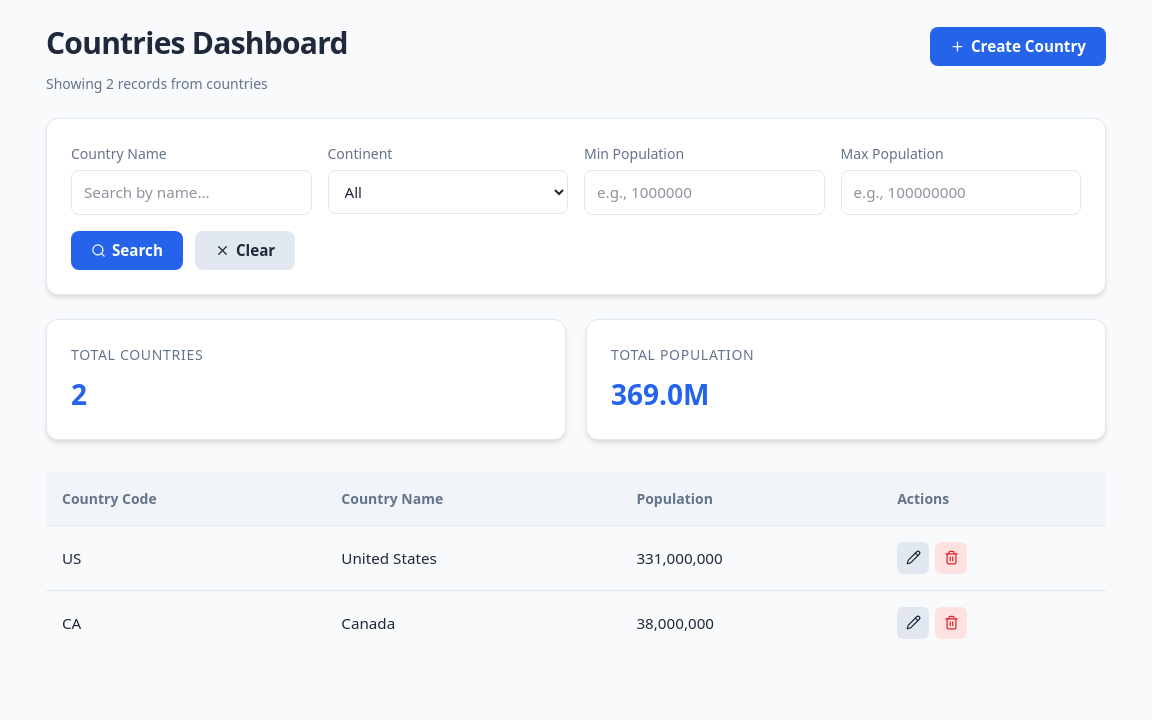
shows delete impact preview when opening delete confirmation
The image size is (1152, 720).
Click the button named "Delete country" in the row of "US" at (951, 558), box x1=935 y1=542 x2=967 y2=574
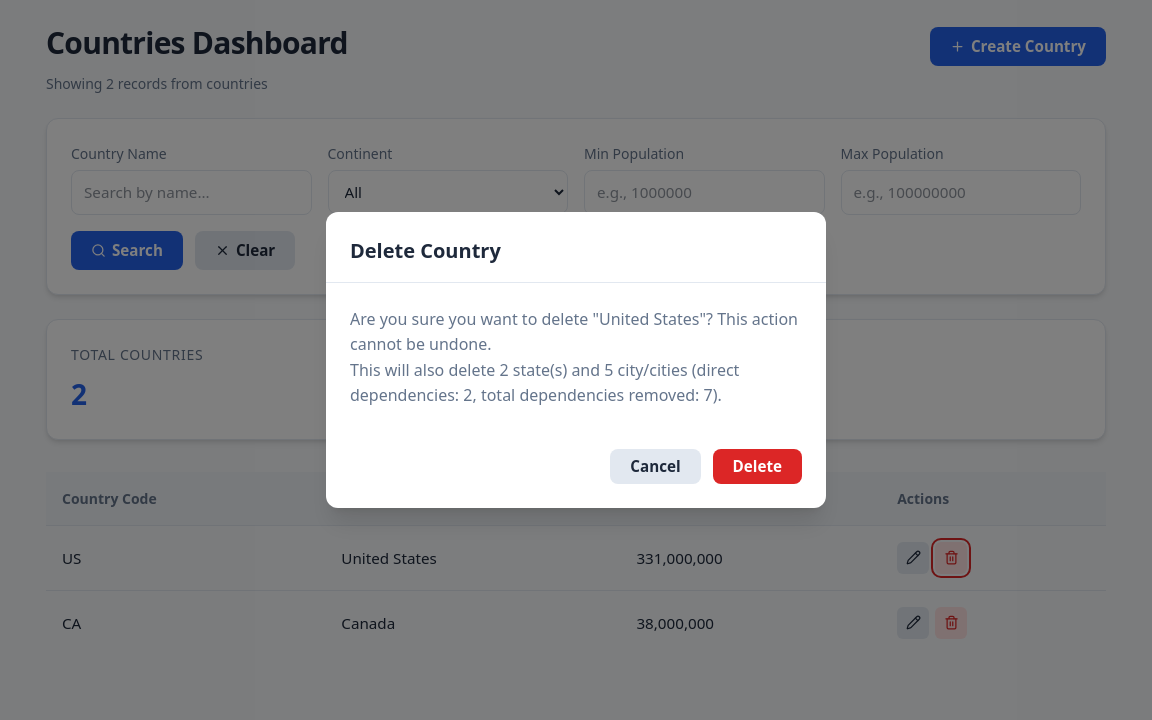
Expected: the heading "Delete Country" is shown, x1=350 y1=237 x2=501 y2=264
Expected: the text "Are you sure you want to delete \"United States\"? This action cannot be undone." is shown, x1=350 y1=307 x2=802 y2=358
Expected: the text "This will also delete 2 state(s) and 5 city/cities (direct dependencies: 2, total dependencies removed: 7)." is shown, x1=350 y1=359 x2=739 y2=406
